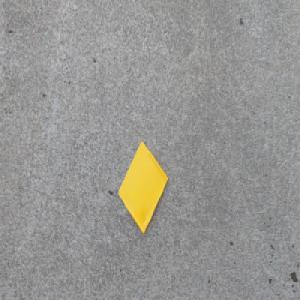PlasticPart: (117, 139, 168, 234)
